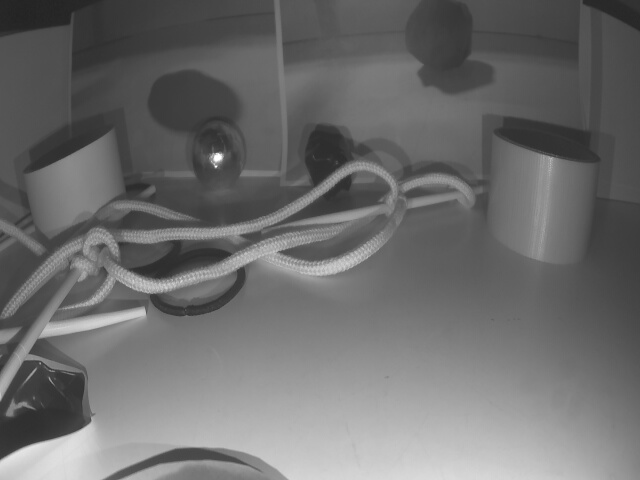Dead: (308, 125, 354, 190)
Live: (194, 121, 244, 190)
